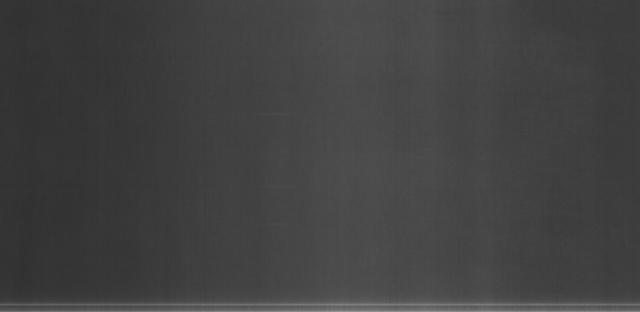welding_line: (0, 289, 638, 312)
